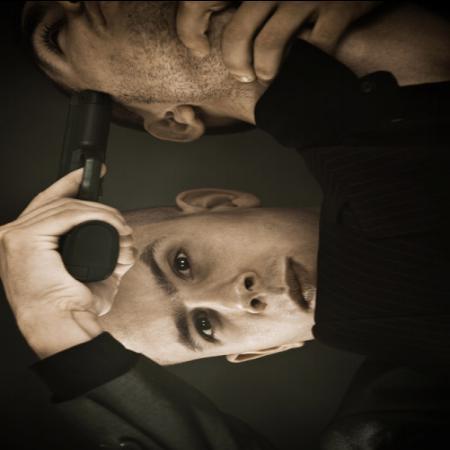Pistol: (51, 89, 113, 284)
